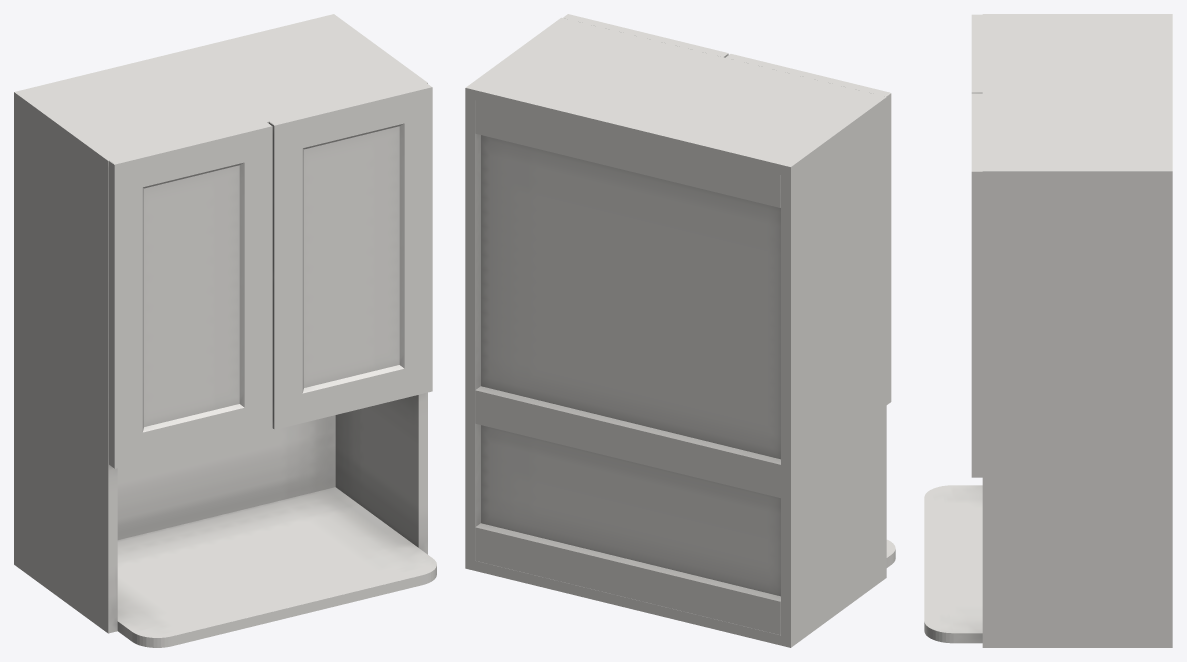
Rendered from wall-microwave-doors-on.glb.
The picture shows the model from 3 angles, left to right: view 1: azimuth 30°, elevation 25°; view 2: azimuth 150°, elevation 25°; view 3: azimuth 270°, elevation 25°; orthographic projection.
Parts seen in each view (by area): view 1: part_0, part_10; view 2: part_0, part_10; view 3: part_0, part_10.
Part boxes in pixels (bbox=[...]): part_0: bbox=[14, 14, 436, 647]; part_10: bbox=[109, 83, 432, 468]; part_0: bbox=[465, 17, 895, 647]; part_10: bbox=[563, 14, 891, 404]; part_0: bbox=[924, 14, 1172, 647]; part_10: bbox=[971, 14, 982, 477].
Size of the model in its own units: 0.6477 by 0.9145 by 0.4318.
2 materials, 2 textured.
